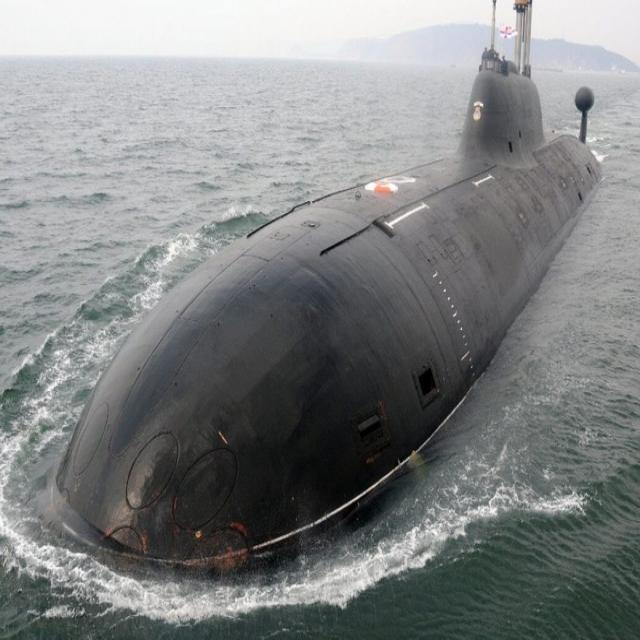submarine: (52, 1, 611, 578)
